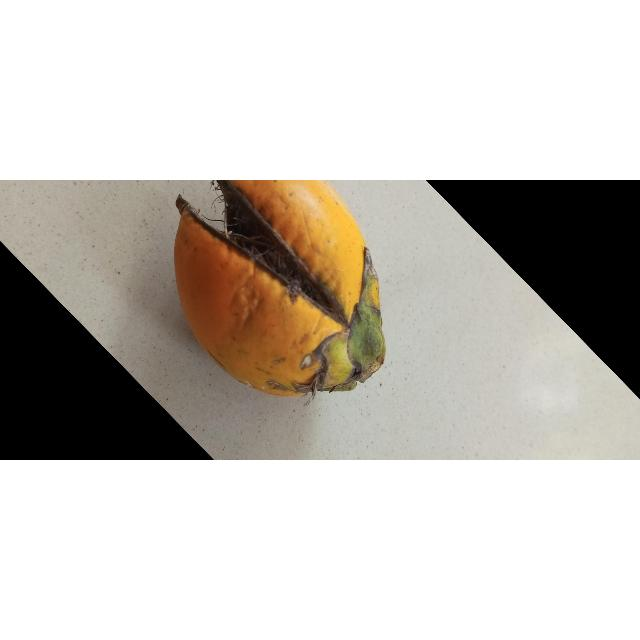damaged: (173, 180, 386, 399)
